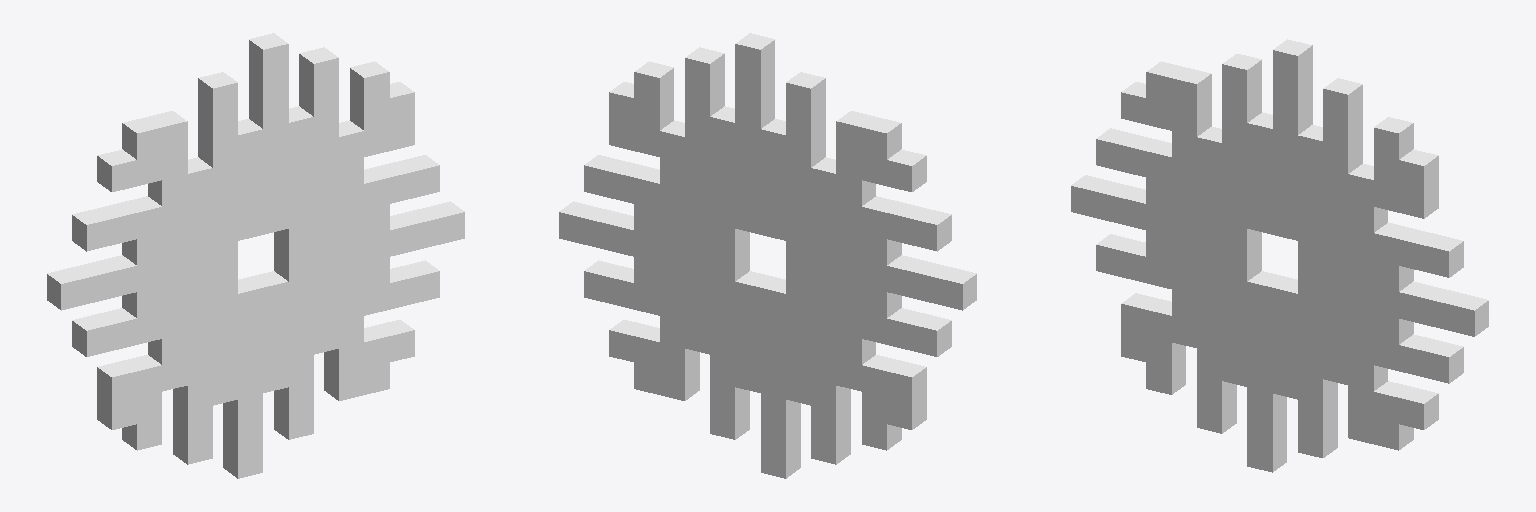
Rendered from gear2.obj.
The picture shows the model from 3 angles: view 1: azimuth 30°, elevation 25°; view 2: azimuth 150°, elevation 25°; view 3: azimuth 330°, elevation 25°; orthographic projection.
Visible parts, largest first — view 1: gear2; view 2: gear2; view 3: gear2.
Part boxes in pixels (x1,y1,x2,y2): gear2: (47,33,464,478); gear2: (559,33,976,478); gear2: (1071,39,1488,472).
Size of the model in its own units: 16 by 16 by 1.